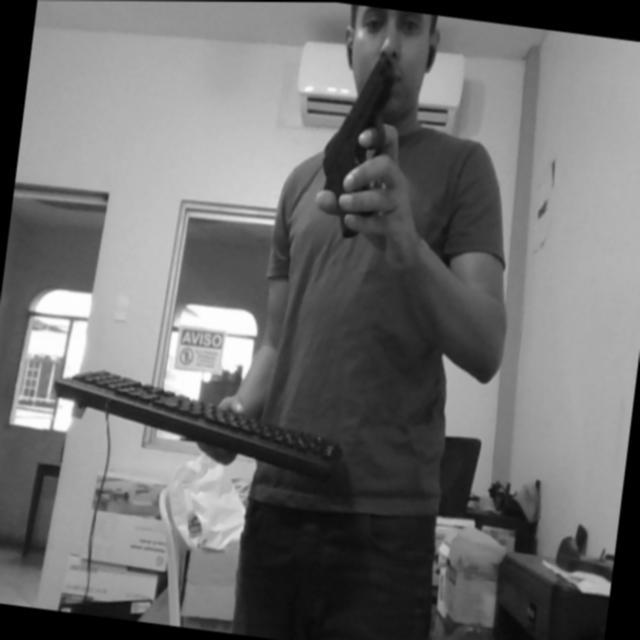weapon: (310, 44, 402, 242)
